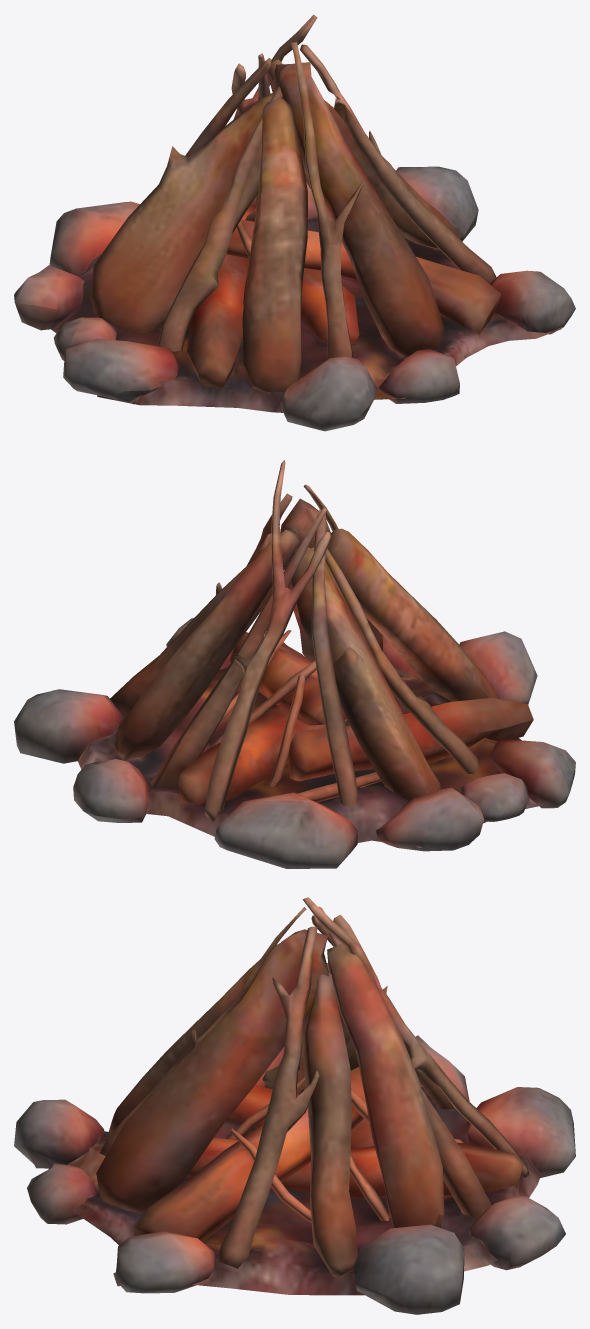
Rendered from campfire_ring.3fa1b4ea12.glb.
The picture shows the model from 3 angles, top to bottom: view 1: azimuth 30°, elevation 25°; view 2: azimuth 150°, elevation 25°; view 3: azimuth 270°, elevation 25°; orthographic projection. The views are drawn at different scales.
Visible parts, largest first — view 1: campfire_ring; view 2: campfire_ring; view 3: campfire_ring.
Part boxes in pixels (x1=…): campfire_ring: x1=14, y1=14, x2=575, y2=431; campfire_ring: x1=14, y1=460, x2=575, y2=868; campfire_ring: x1=14, y1=897, x2=575, y2=1314.
Bounding box in the file's own units: 1.45 × 0.8896 × 1.39.
Materials: 1 (1 with a texture image).
